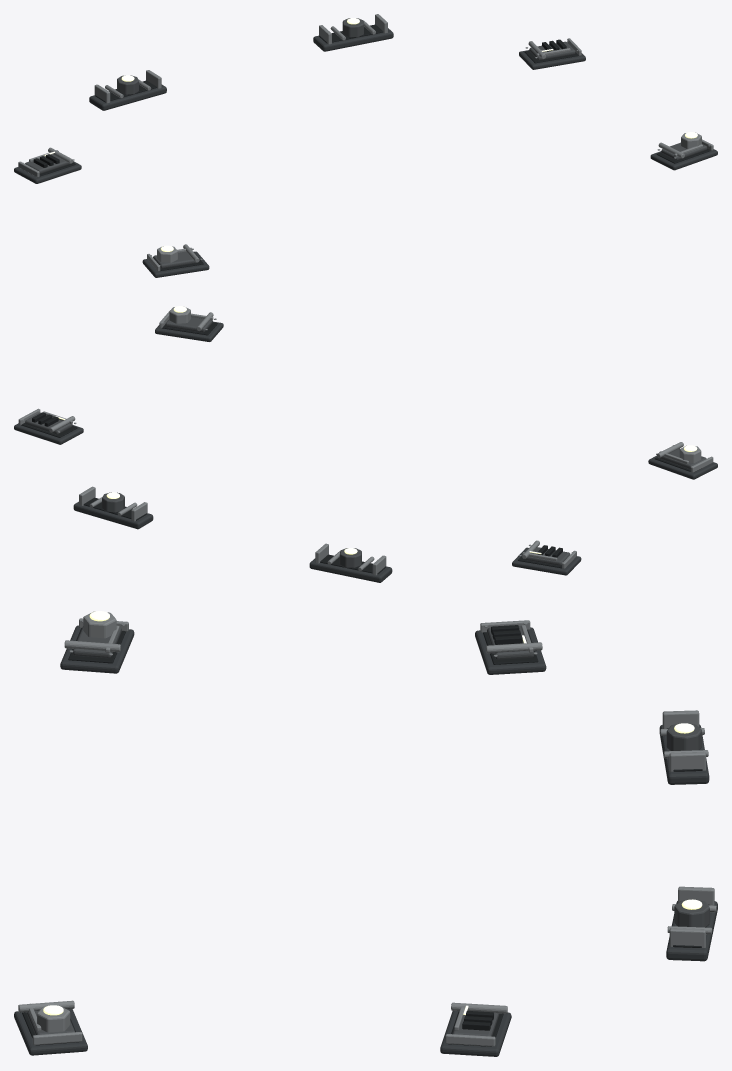
The model's file is r3_arena_machinery.glb.
The picture shows the model from 3 angles, top to bottom: view 1: azimuth 30°, elevation 25°; view 2: azimuth 150°, elevation 25°; view 3: azimuth 270°, elevation 25°; orthographic projection. The views are drawn at different scales.
Parts seen in each view (by area): view 1: FarGantryRight_Base, FarGantryLeft_Base, NearLeftService_Base, FarRightService_Base, NearRightService_Base, FarLeftService_Base; view 2: FarGantryLeft_Base, FarGantryRight_Base, FarLeftService_Base, FarRightService_Base, NearRightService_Base, NearLeftService_Base; view 3: FarRightService_Base, NearRightService_Base, NearLeftService_Base, FarLeftService_Base, FarGantryRight_Base, FarGantryLeft_Base, FarGantryRight_Core, FarGantryLeft_Core.
Part boxes in pixels (x1,y1,x2,y2): FarGantryRight_Base: (313, 25, 393, 51); FarGantryLeft_Base: (89, 80, 166, 110); NearLeftService_Base: (142, 251, 209, 277); FarRightService_Base: (519, 50, 585, 69); NearRightService_Base: (650, 149, 717, 170); FarLeftService_Base: (14, 161, 81, 183); FarGantryLeft_Base: (309, 554, 392, 582); FarGantryRight_Base: (73, 498, 153, 529); FarLeftService_Base: (512, 547, 581, 575); FarRightService_Base: (14, 423, 83, 444); NearRightService_Base: (155, 321, 223, 341); NearLeftService_Base: (648, 455, 717, 479); FarRightService_Base: (440, 1011, 511, 1056); NearRightService_Base: (14, 1009, 87, 1055); NearLeftService_Base: (60, 625, 134, 673); FarLeftService_Base: (475, 627, 546, 674); FarGantryRight_Base: (666, 901, 717, 961); FarGantryLeft_Base: (659, 724, 709, 784); FarGantryRight_Core: (674, 899, 709, 927); FarGantryLeft_Core: (666, 723, 701, 750).
Size of the model in its own units: 26.09 by 0.93 by 18.23.
